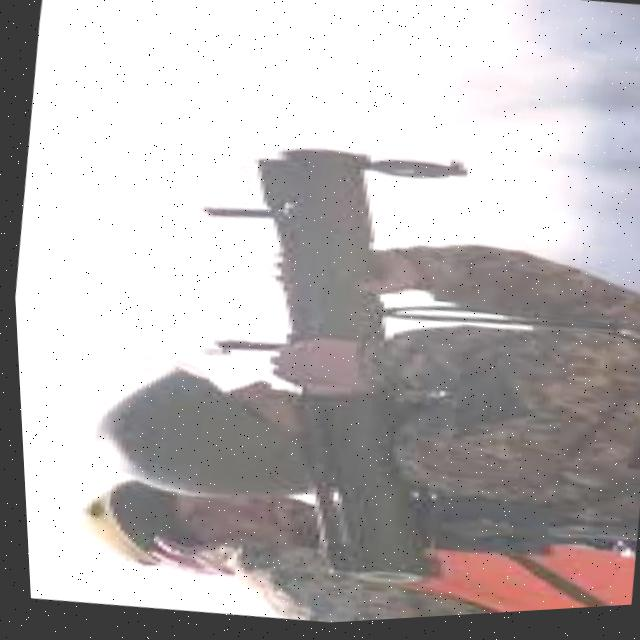rocket: (177, 132, 504, 609)
